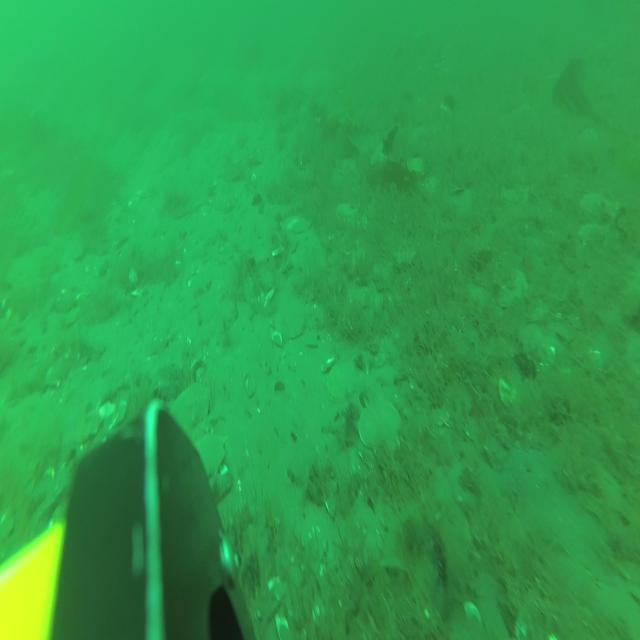scallop: (360, 401, 403, 463), (169, 380, 209, 436), (192, 432, 227, 485), (276, 300, 306, 340), (581, 189, 616, 223), (499, 268, 527, 310), (326, 364, 356, 402), (579, 216, 604, 246), (284, 214, 309, 234)
